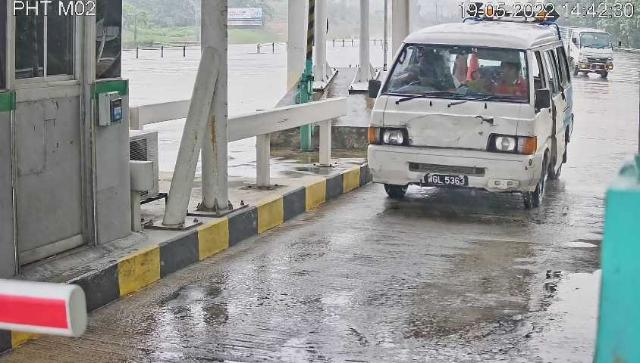License_Plate: (424, 173, 471, 192)
van: (370, 23, 575, 209)
